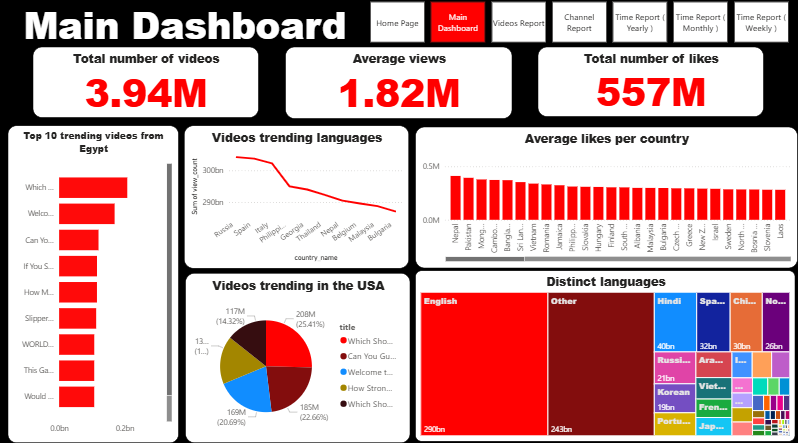

Layout of this report page (visuals, bound fields, positions):
{"tool":"powerbi","page":{"name":"Main Dashboard","canvas":[1280,720],"ordinal":2},"visuals":[{"type":"shape","box":[0,0,1280,720],"z":0},{"type":"textbox","title":"Main Dashboard","box":[34.3,0,530,71.7],"z":1000},{"type":"barChart","title":"Top 10 trending videos from Egypt","fields":{"Category":["Dim_Video.title"],"Y":["Sum(Fact_Views.view_count)"],"Series":["Dim_Chanel.country_name"]},"box":[14.3,204.3,273.3,508.3],"z":2000},{"type":"treemap","title":"Distinct languages","fields":{"Group":["Dim_Chanel.lang_category"],"Values":["Sum(Fact_Views.view_count)"]},"box":[666.7,436.7,608.3,273.3],"z":3000},{"type":"pieChart","title":"Videos trending in the USA","fields":{"Y":["Sum(Fact_Views.view_count)"],"Category":["Dim_Video.title"]},"box":[297,439.3,360,271.7],"z":4000},{"type":"columnChart","title":"Average likes per country","fields":{"Category":["Dim_Chanel.country_name"],"Y":["Avg(Fact_Views.like_count)"]},"box":[665.7,205,611.7,226.7],"z":5000},{"type":"card","title":"Total number of videos","fields":{"Values":["CountNonNull(Dim_Video.title)"]},"box":[54,78.7,361.7,113.3],"z":6000},{"type":"card","title":"Average views","fields":{"Values":["Avg(Fact_Views.view_count)"]},"box":[458,78.7,363.3,115],"z":7000},{"type":"card","title":"Total number of likes","fields":{"Values":["Sum(Fact_Views.comment_count)"]},"box":[862,78.7,361.7,111.7],"z":8000},{"type":"lineChart","title":"Videos trending languages","fields":{"Category":["Dim_Chanel.country_name"],"Y":["Sum(Fact_Views.view_count)"]},"box":[296.7,204.3,360,229],"z":9000},{"type":"pageNavigator","box":[593.3,5.3,673.3,65],"z":10000}]}

Visuals, with their boxes in screenshot pixels (x1, y1, x2, y2), scaled from the page's 1280x720 canvas onto the 798x443 screenshot:
shape: bbox(0, 0, 797, 442)
"Main Dashboard" textbox: bbox(21, 0, 352, 44)
"Top 10 trending videos from Egypt" barChart: bbox(9, 126, 179, 438)
"Distinct languages" treemap: bbox(416, 269, 795, 437)
"Videos trending in the USA" pieChart: bbox(185, 270, 410, 437)
"Average likes per country" columnChart: bbox(415, 126, 796, 266)
"Total number of videos" card: bbox(34, 48, 259, 118)
"Average views" card: bbox(286, 48, 512, 119)
"Total number of likes" card: bbox(537, 48, 763, 117)
"Videos trending languages" lineChart: bbox(185, 126, 409, 267)
pageNavigator: bbox(370, 3, 790, 43)
